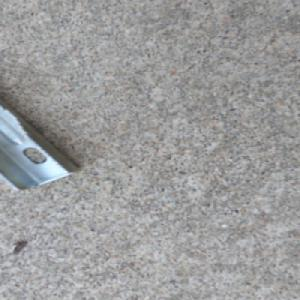ClampPart: (0, 95, 83, 191)
